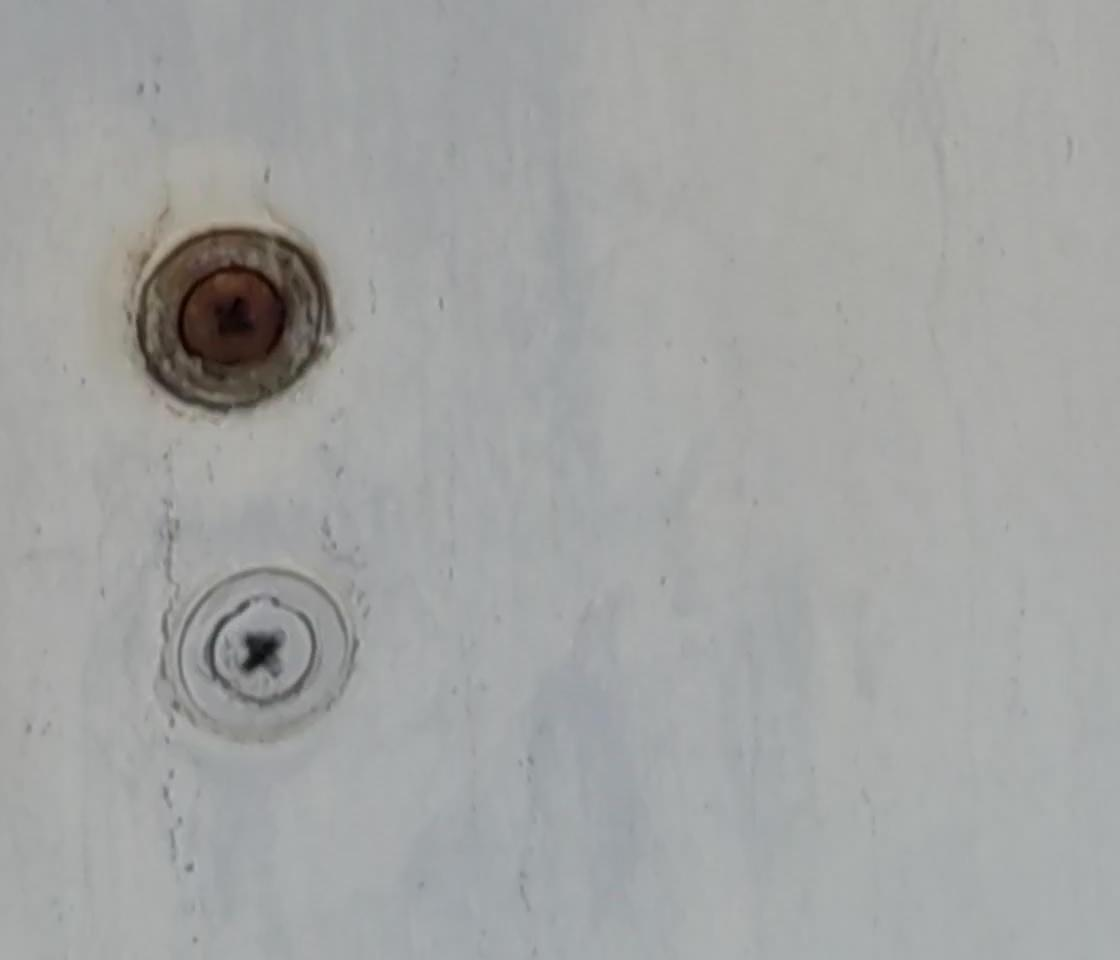rivet_damage: (128, 221, 335, 418)
